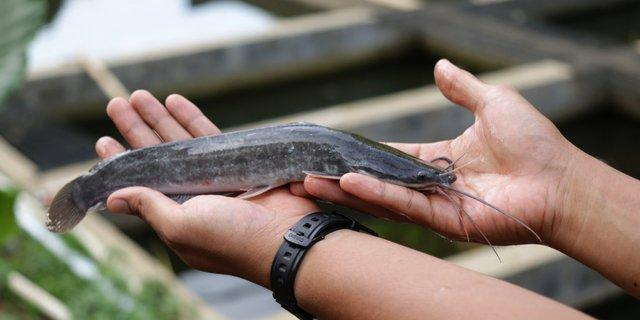Mulut: (416, 158, 468, 214)
Sirip Dada: (290, 158, 360, 192)
Sirip Ekor: (33, 164, 113, 244)
Sirip Perut: (229, 176, 291, 214)
Sirip Punggung: (82, 146, 156, 184)
